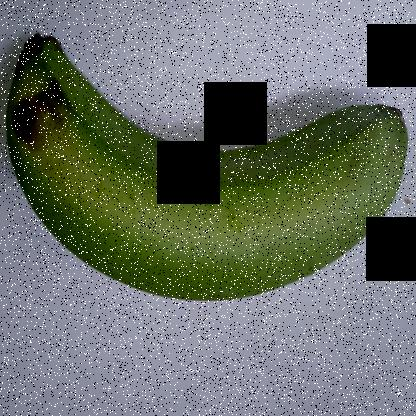freshunripe: (1, 26, 415, 323)
